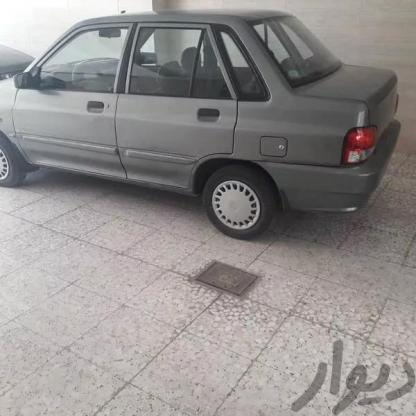Car: (0, 0, 416, 247)
